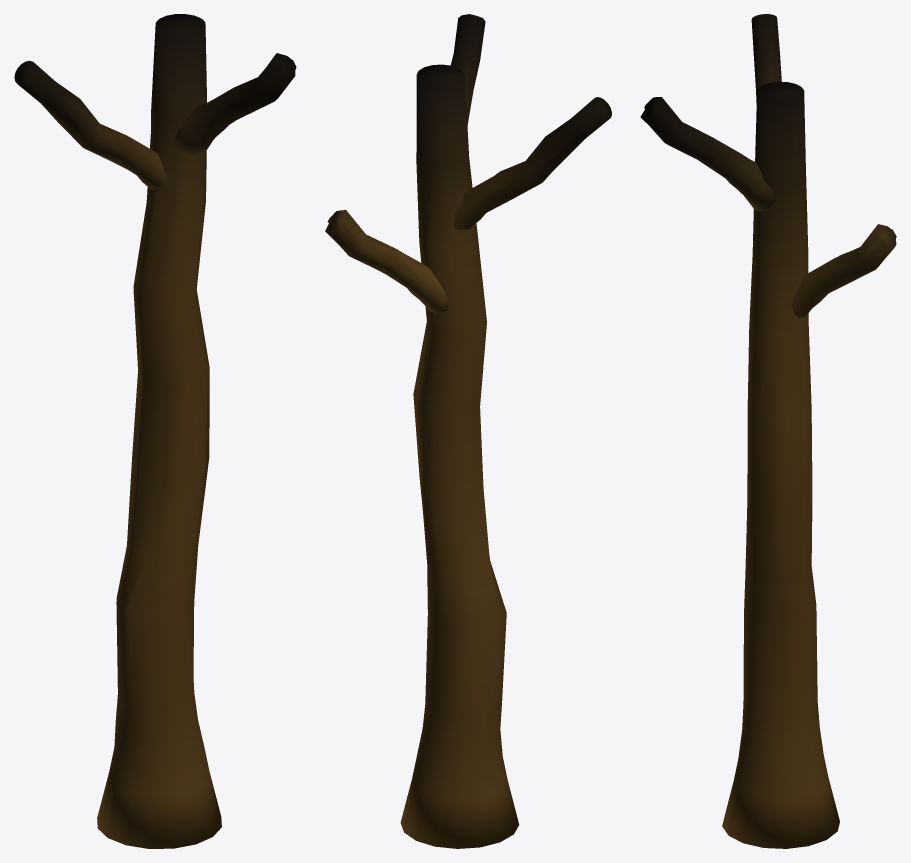
Rendered from pohon gosong_5.fbx.
The picture shows the model from 3 angles, left to right: view 1: azimuth 30°, elevation 25°; view 2: azimuth 150°, elevation 25°; view 3: azimuth 270°, elevation 25°; orthographic projection. The views are drawn at different scales.
Parts seen in each view (by area): view 1: Cylinder.007; view 2: Cylinder.007; view 3: Cylinder.007.
Boxes of the visible parts, left/top/right/bottom form: Cylinder.007: left=14, top=14, right=296, bottom=848; Cylinder.007: left=325, top=14, right=611, bottom=848; Cylinder.007: left=640, top=14, right=896, bottom=848.
Size of the model in its own units: 1644 by 5311 by 1641.
Materials: 1 (1 with a texture image).
